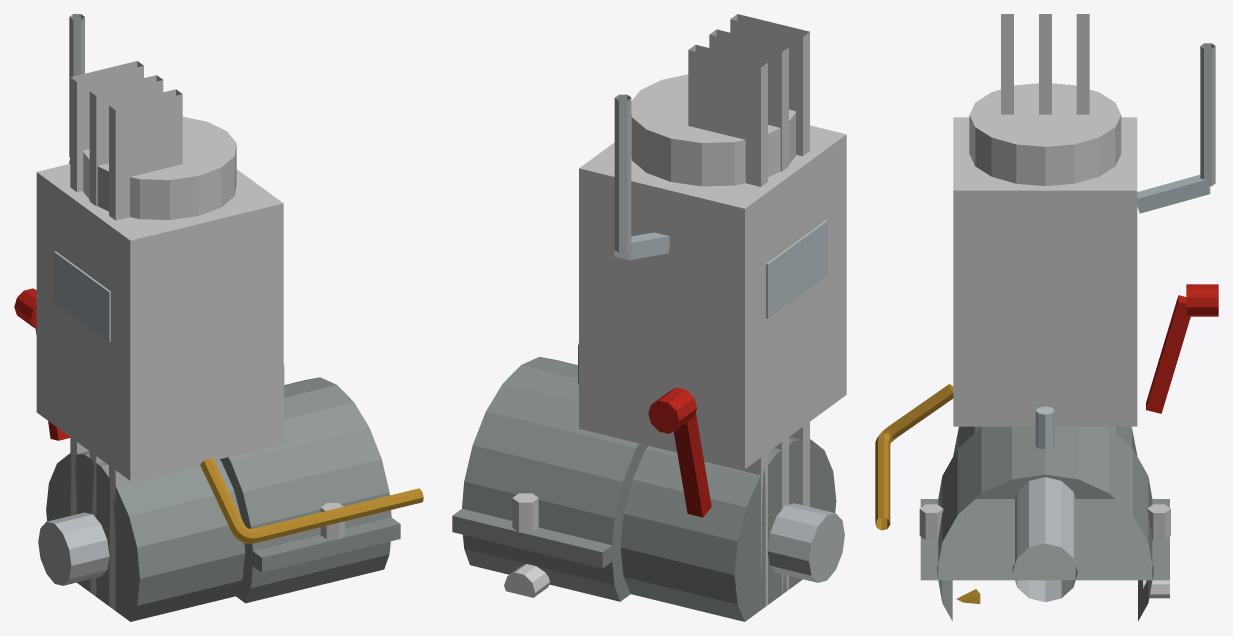
The model's file is cell_35.obj.
The picture shows the model from 3 angles, left to right: view 1: azimuth 30°, elevation 25°; view 2: azimuth 150°, elevation 25°; view 3: azimuth 270°, elevation 25°; orthographic projection. The views are drawn at different scales.
Bounding box in the file's own units: 0.59 × 1 × 0.6339.
